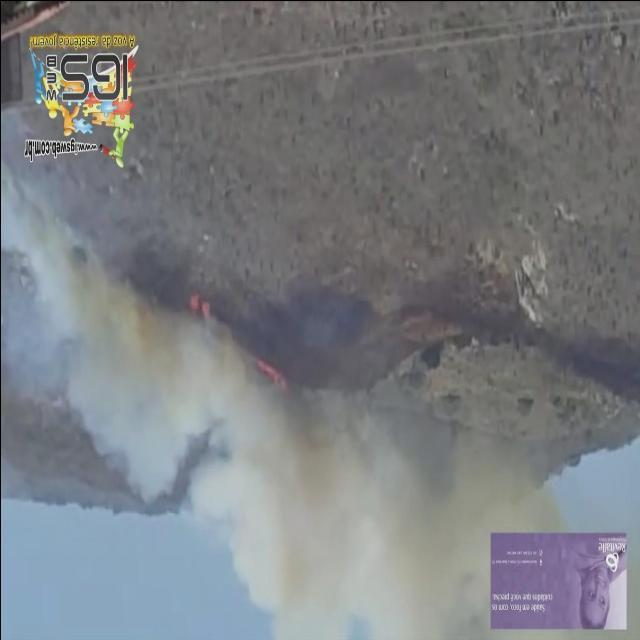Fire: (255, 358, 287, 383), (188, 290, 210, 324)
